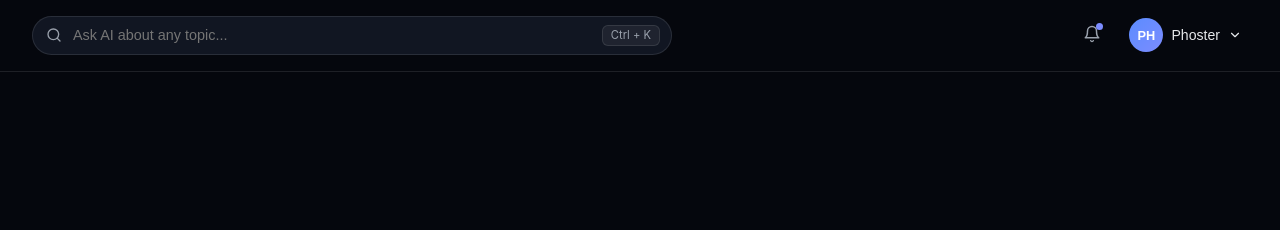
Test: TopBar account dropdown › cancelling the confirmation returns to the normal menu without deleting
The width and height of the screenshot is (1280, 230).
Click the text "phoster" at [1196, 35], box left=1172, top=27, right=1220, bottom=43
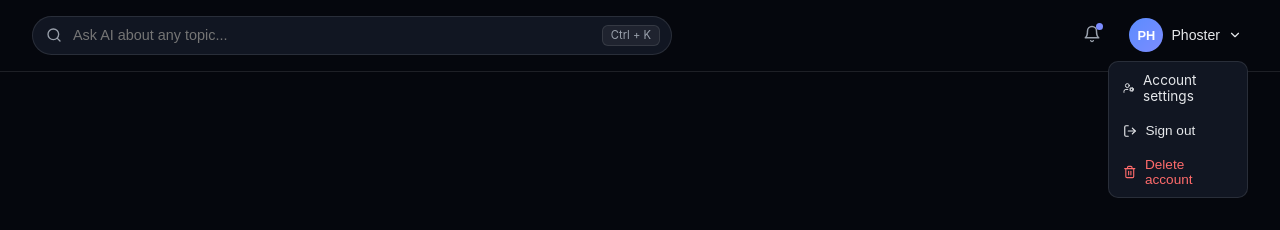
Click the button "Delete account" at [1178, 172], box left=1109, top=148, right=1247, bottom=197
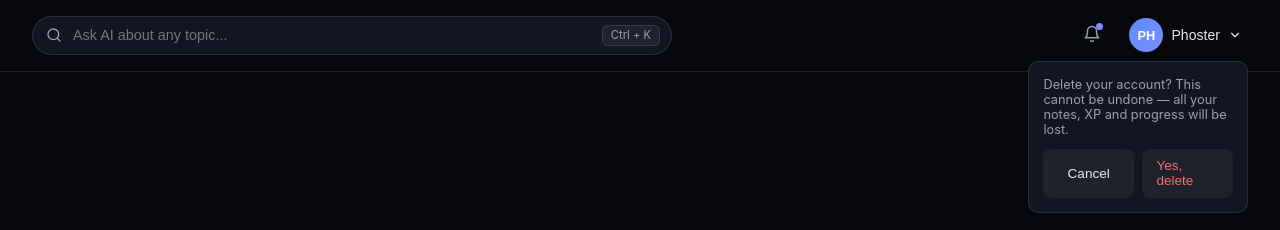
Click the button "Cancel" at [1089, 173], box left=1043, top=149, right=1134, bottom=198
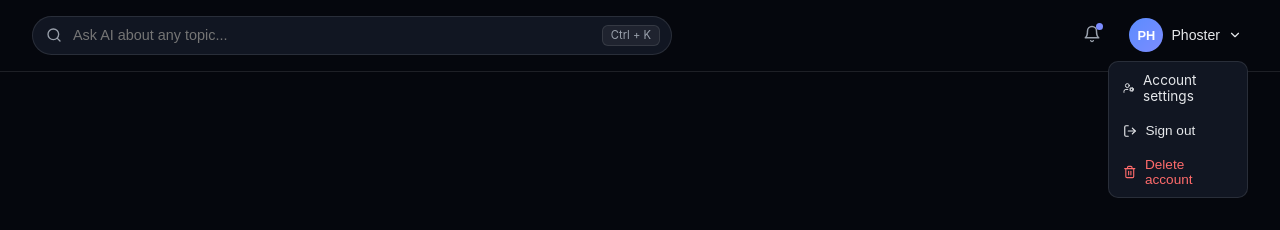
Check: the link "Account settings" is shown, box left=1123, top=72, right=1197, bottom=104
